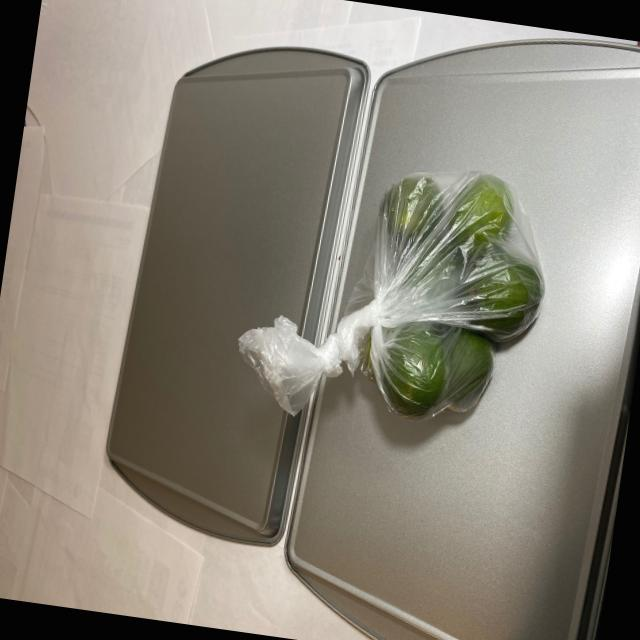lemon: (343, 160, 558, 442)
